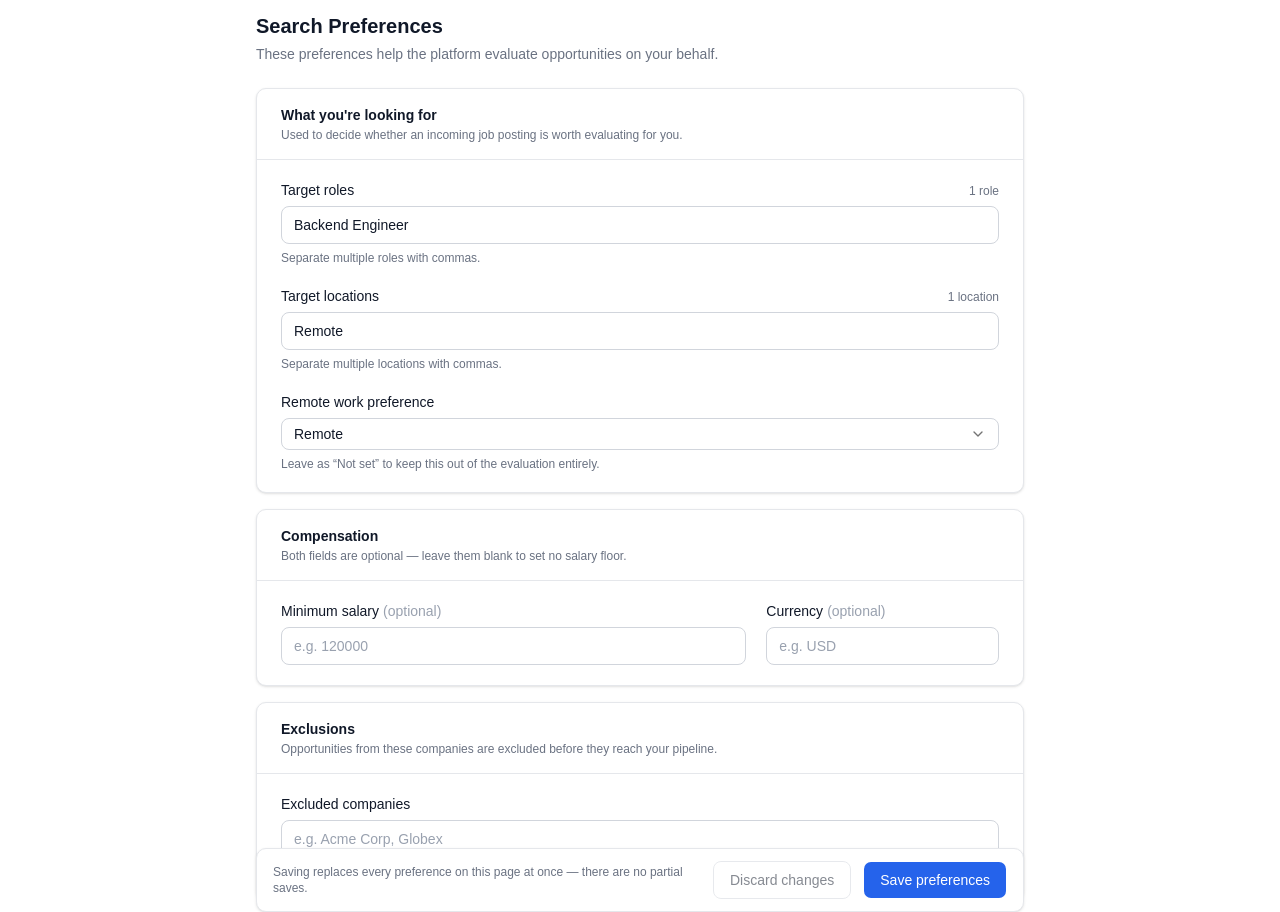
Test: SettingsPage › shows a toast on a non-validation API error during save
The width and height of the screenshot is (1280, 912).
Expected: the field labelled "Target roles" holds "Backend Engineer", [281,206,999,244]
Step 1. Click the button "Save preferences" → (935, 880), box [863,861,1007,899]
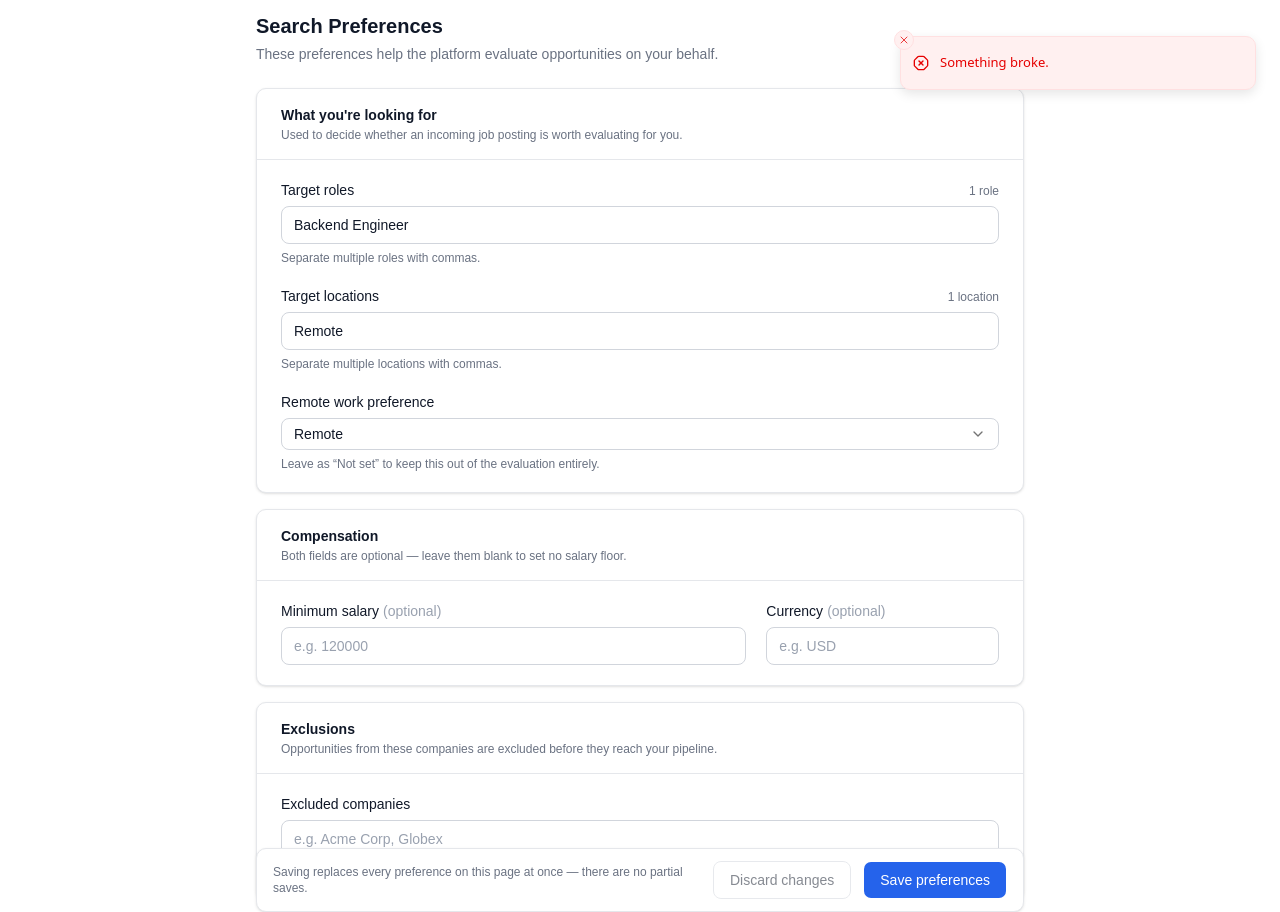
Now the text "Something broke." is shown, box [940,53,1049,72]
